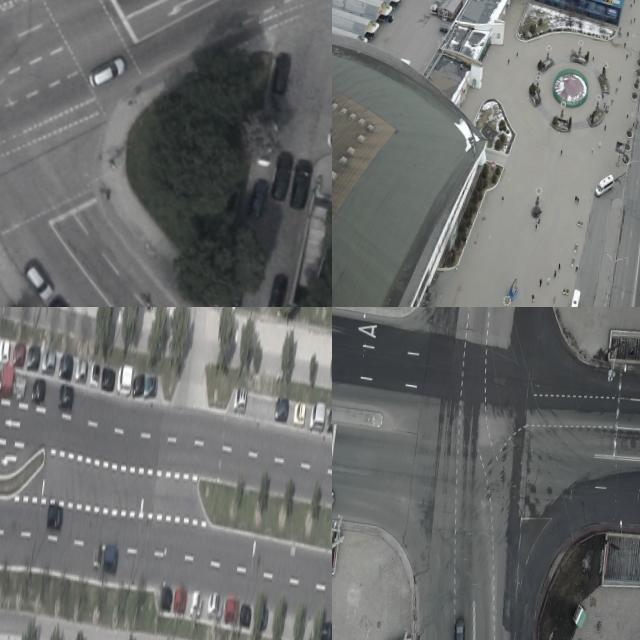UAI: (85, 51, 128, 92), (21, 262, 56, 303), (288, 158, 314, 210), (270, 149, 293, 200), (269, 51, 291, 95), (247, 176, 269, 218), (265, 272, 289, 307), (115, 362, 132, 395), (43, 294, 84, 307), (309, 400, 326, 431), (46, 503, 64, 531), (102, 544, 119, 572), (0, 364, 14, 398), (57, 383, 74, 411), (206, 591, 223, 619), (220, 287, 243, 307), (58, 352, 74, 380), (30, 377, 46, 404), (223, 596, 239, 623), (273, 395, 289, 422), (450, 616, 468, 640), (232, 385, 247, 412), (41, 348, 56, 375), (26, 345, 41, 372), (99, 366, 115, 391), (12, 340, 26, 368), (159, 584, 173, 611), (238, 602, 252, 629), (292, 399, 306, 426), (189, 588, 202, 617), (143, 374, 158, 399), (173, 587, 187, 612), (132, 372, 145, 398), (74, 357, 87, 382), (13, 375, 25, 401), (89, 360, 99, 386), (320, 619, 332, 640), (92, 545, 102, 568), (0, 338, 9, 363), (326, 407, 332, 432)
harvester: (594, 172, 616, 200), (565, 285, 581, 307)
